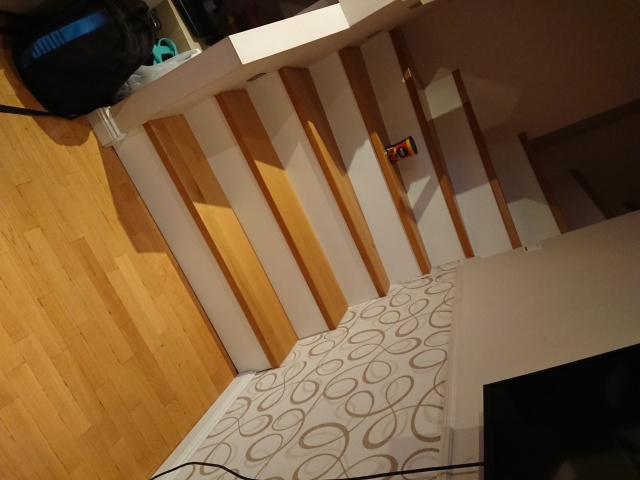Nescafe Classic 225g: (382, 134, 420, 167)
